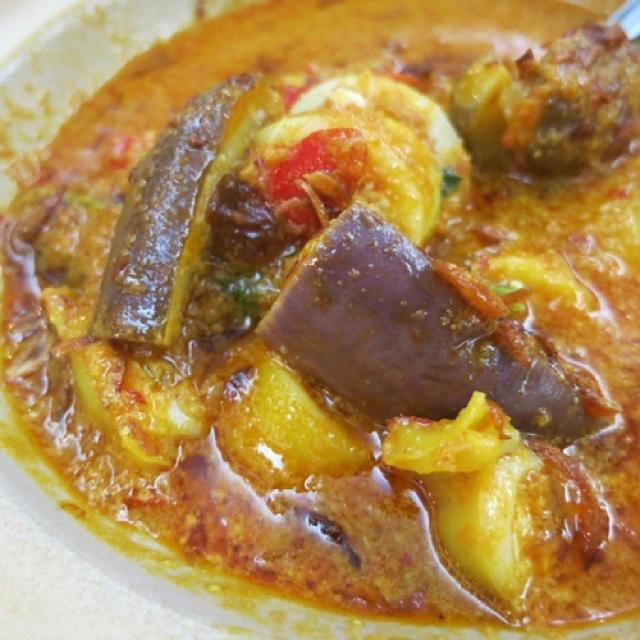熟制海鲜: (26, 15, 608, 621)
